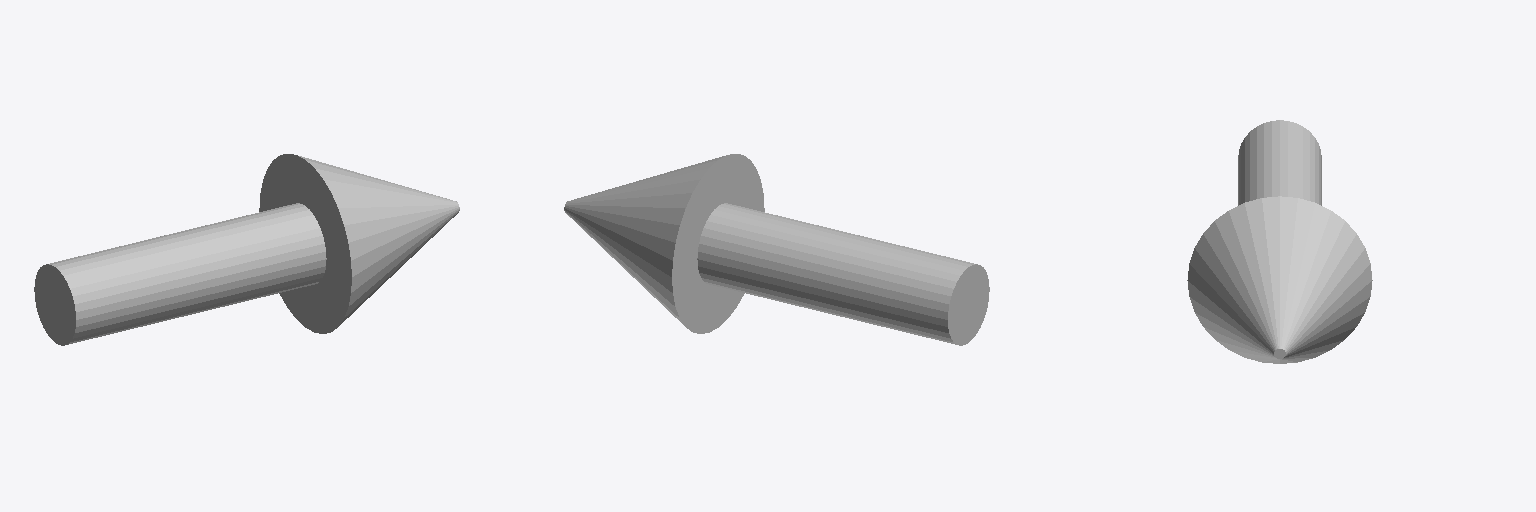
File: arrow.obj
The picture shows the model from 3 angles: view 1: azimuth 30°, elevation 25°; view 2: azimuth 150°, elevation 25°; view 3: azimuth 270°, elevation 25°; orthographic projection.
Visible parts, largest first — view 1: Cylinder; view 2: Cylinder; view 3: Cylinder.
Part boxes in pixels (x1,y1,x2,y2): Cylinder: (34,154,459,345); Cylinder: (564,154,989,345); Cylinder: (1187,120,1372,363).
Bounding box in the file's own units: 0.8766 × 0.3501 × 0.3501.